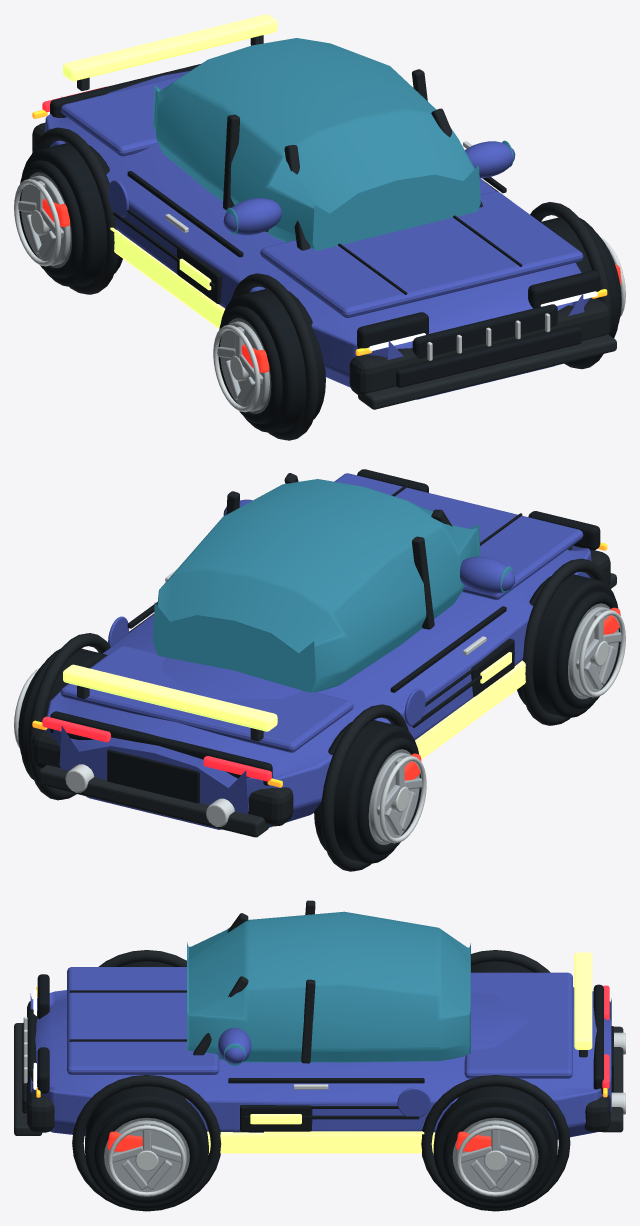
File: sport.glb
3 views of the same model, one above another, from view 1: azimuth 30°, elevation 25°; view 2: azimuth 150°, elevation 25°; view 3: azimuth 270°, elevation 25° (orthographic). The views are drawn at different scales.
Parts seen in each view (by area): view 1: continuous smoked glass cabin.008, sculpted one-piece body shell.008, front hood skin.008, left wheel tire.016, rear deck skin.008, rear spoiler blade.008, left wheel tire.017, front bumper fascia.008, front carbon splitter.008, lower front intake surround.008, upper front grille surround.008, left front fender arch bead.008 (+20 smaller); view 2: continuous smoked glass cabin.008, sculpted one-piece body shell.008, rear deck skin.008, front hood skin.008, left wheel tire.017, rear spoiler blade.008, left wheel tire.016, rear diffuser center.008, rear plate shadow recess.008, left rear fender arch bead.008, left front fender arch bead.008, right rear fender arch bead.008 (+21 smaller); view 3: continuous smoked glass cabin.008, sculpted one-piece body shell.008, front hood skin.008, rear deck skin.008, right wheel tire.016, right wheel tire.017, right aerodynamic side sill.008, right rear fender arch bead.008, right front fender arch bead.008, right tire sidewall bead.016, right tire sidewall bead.017, right machined wheel hub.017 (+28 smaller).
Boxes of the visible parts, x1,y1,x2,y2 form: continuous smoked glass cabin.008: (153,38,480,250); sculpted one-piece body shell.008: (45,71,591,399); front hood skin.008: (260,191,583,317); left wheel tire.016: (221,289,325,432); rear deck skin.008: (60,75,182,156); rear spoiler blade.008: (63,14,277,81); left wheel tire.017: (21,143,122,286); front bumper fascia.008: (349,298,610,396); front carbon splitter.008: (358,334,616,409); lower front intake surround.008: (396,326,581,387); upper front grille surround.008: (412,304,557,358); left front fender arch bead.008: (231,273,319,440); continuous smoked glass cabin.008: (153,479,480,692); sculpted one-piece body shell.008: (45,545,591,829); rear deck skin.008: (60,645,353,752); front hood skin.008: (334,473,583,599); left wheel tire.017: (314,720,418,863); rear spoiler blade.008: (63,664,277,731); left wheel tire.016: (517,574,618,717); rear diffuser center.008: (38,765,269,837); rear plate shadow recess.008: (107,749,199,803); left rear fender arch bead.008: (320,704,408,871); left front fender arch bead.008: (521,558,608,725); right rear fender arch bead.008: (28,633,110,800); continuous smoked glass cabin.008: (187,911,470,1062); sculpted one-piece body shell.008: (30,987,611,1139); front hood skin.008: (67,967,219,1074); rear deck skin.008: (464,972,572,1078); right wheel tire.016: (85,1086,208,1208); right wheel tire.017: (433,1086,557,1208); right aerodynamic side sill.008: (207,1131,435,1153); right rear fender arch bead.008: (421,1075,570,1211); right front fender arch bead.008: (72,1075,221,1211); right tire sidewall bead.016: (94,1107,199,1203); right tire sidewall bead.017: (442,1107,548,1203); right machined wheel hub.017: (455,1120,535,1191).
Bounding box in the file's own units: 2.89 × 1.85 × 4.74.
